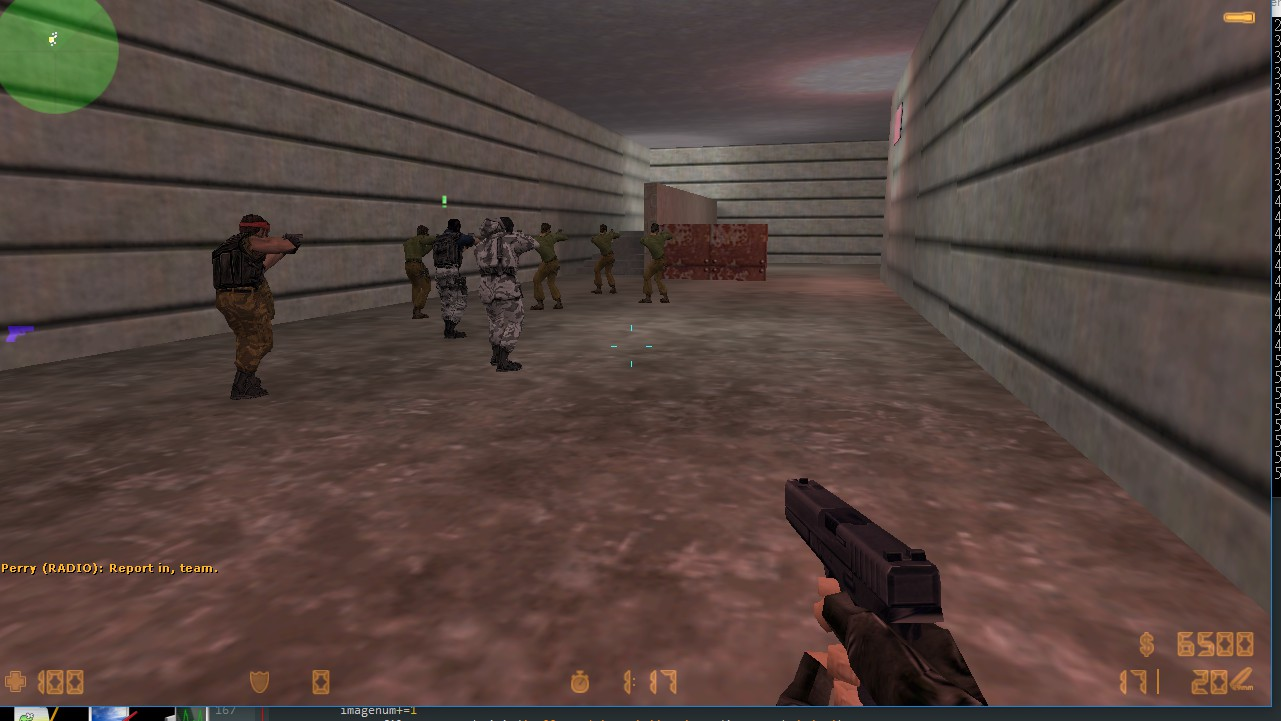person: (203, 210, 300, 409), (471, 209, 535, 377), (433, 217, 474, 344), (531, 221, 570, 313), (401, 222, 436, 323), (640, 222, 675, 308), (587, 219, 623, 296)
